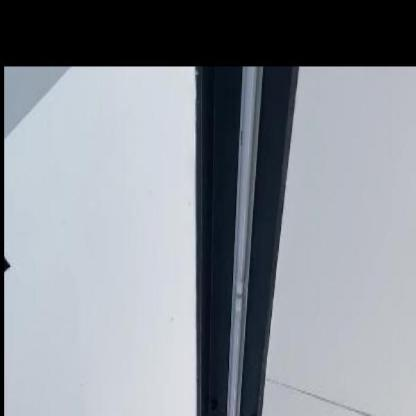light_off: (209, 0, 286, 415)
